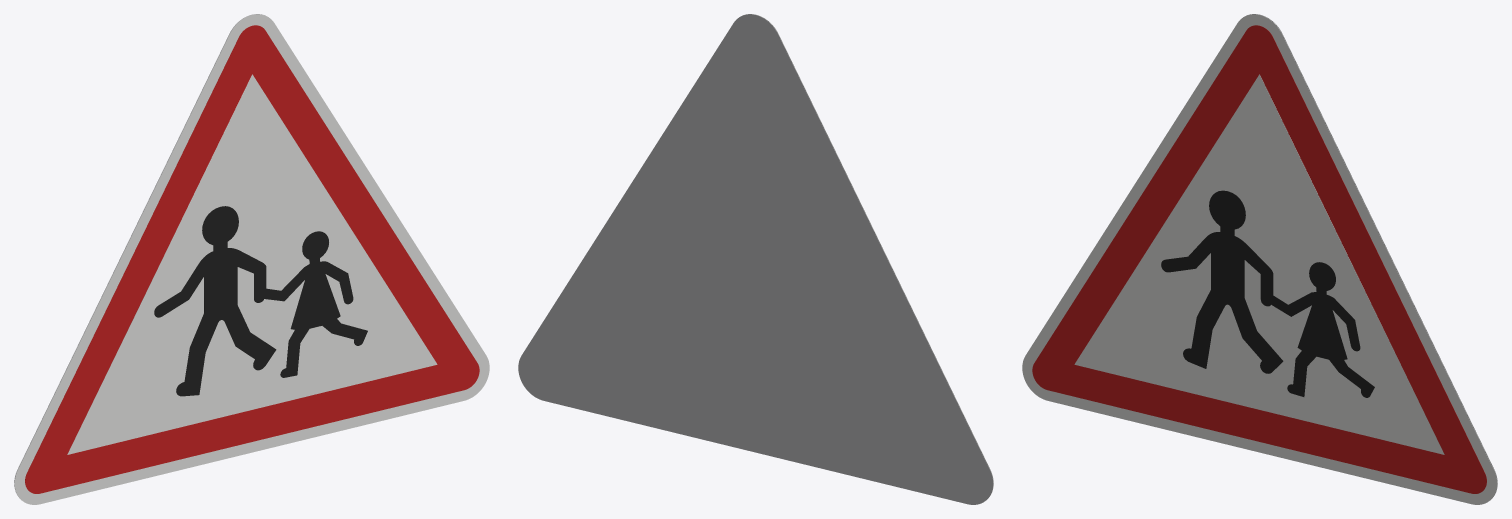
3 views of the same model, side by side, from view 1: azimuth 30°, elevation 25°; view 2: azimuth 150°, elevation 25°; view 3: azimuth 330°, elevation 25° (orthographic).
Parts seen in each view (by area): view 1: A13a_p02, A13a_p01, A13a_p00, A13a_p03, A13a_dos; view 2: A13a_dos, A13a_p00; view 3: A13a_p02, A13a_p01, A13a_p00, A13a_p03, A13a_dos.
Part boxes in pixels (bbox=[...]): A13a_p02: bbox=[67, 74, 437, 454]; A13a_p01: bbox=[25, 25, 479, 493]; A13a_p00: bbox=[14, 14, 489, 504]; A13a_p03: bbox=[154, 206, 367, 396]; A13a_dos: bbox=[14, 14, 265, 500]; A13a_dos: bbox=[518, 14, 993, 504]; A13a_p00: bbox=[742, 14, 993, 500]; A13a_p02: bbox=[1074, 74, 1444, 454]; A13a_p01: bbox=[1032, 25, 1486, 493]; A13a_p00: bbox=[1022, 14, 1497, 504]; A13a_p03: bbox=[1161, 190, 1374, 397]; A13a_dos: bbox=[1246, 14, 1497, 500].
Size of the model in its own units: 1 by 0.8803 by 0.0031.
